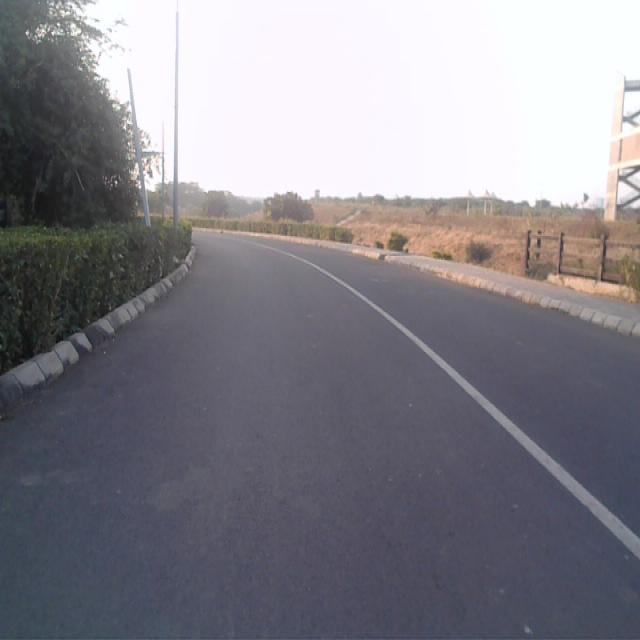lane: (0, 238, 640, 640)
